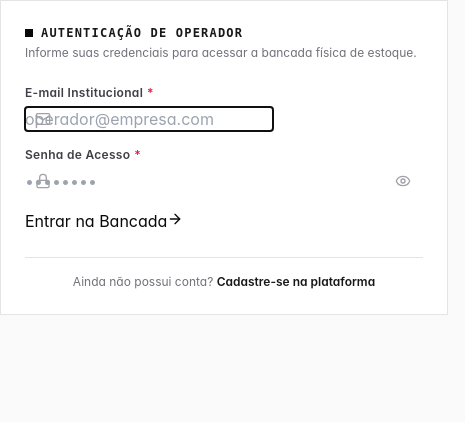
Test: LoginForm (FT-05) › exibe banner de erro RFC 7807 para usuário inativo (status 403)
Type "inativo@empresa.com" into the field labelled "E-mail Institucional*" at (149, 119), box [25,107,273,131]
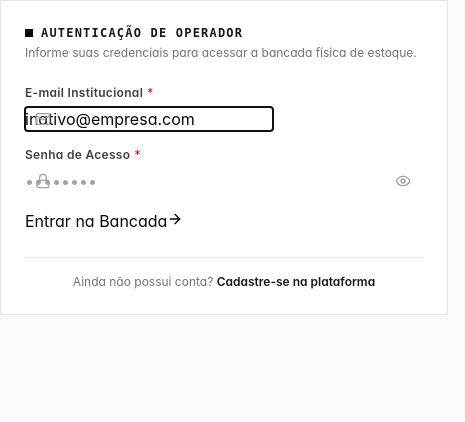
Type "SenhaCorreta123" into the password field labelled "Senha de Acesso*" at (149, 181), box [25,169,273,193]
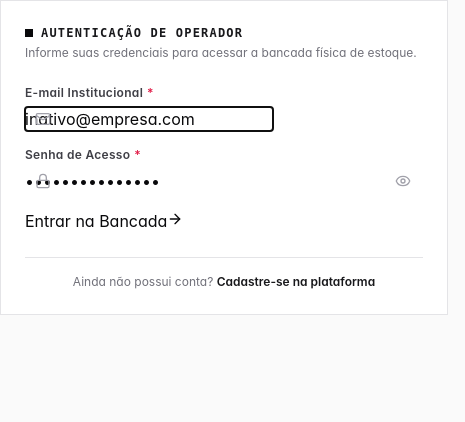
Click the button "Entrar na Bancada" at (104, 221), box [25,209,183,233]
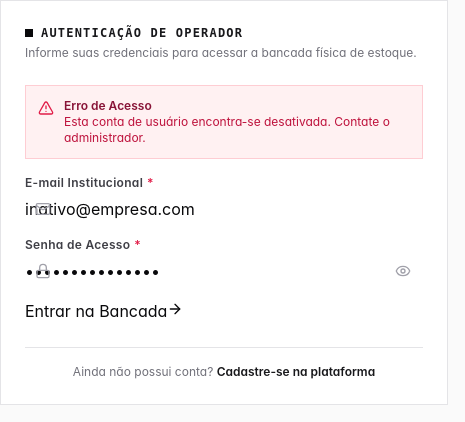
Expected: the text "Esta conta de usuário encontra-se desativada. Contate o administrador." is shown, [64,114,410,146]
